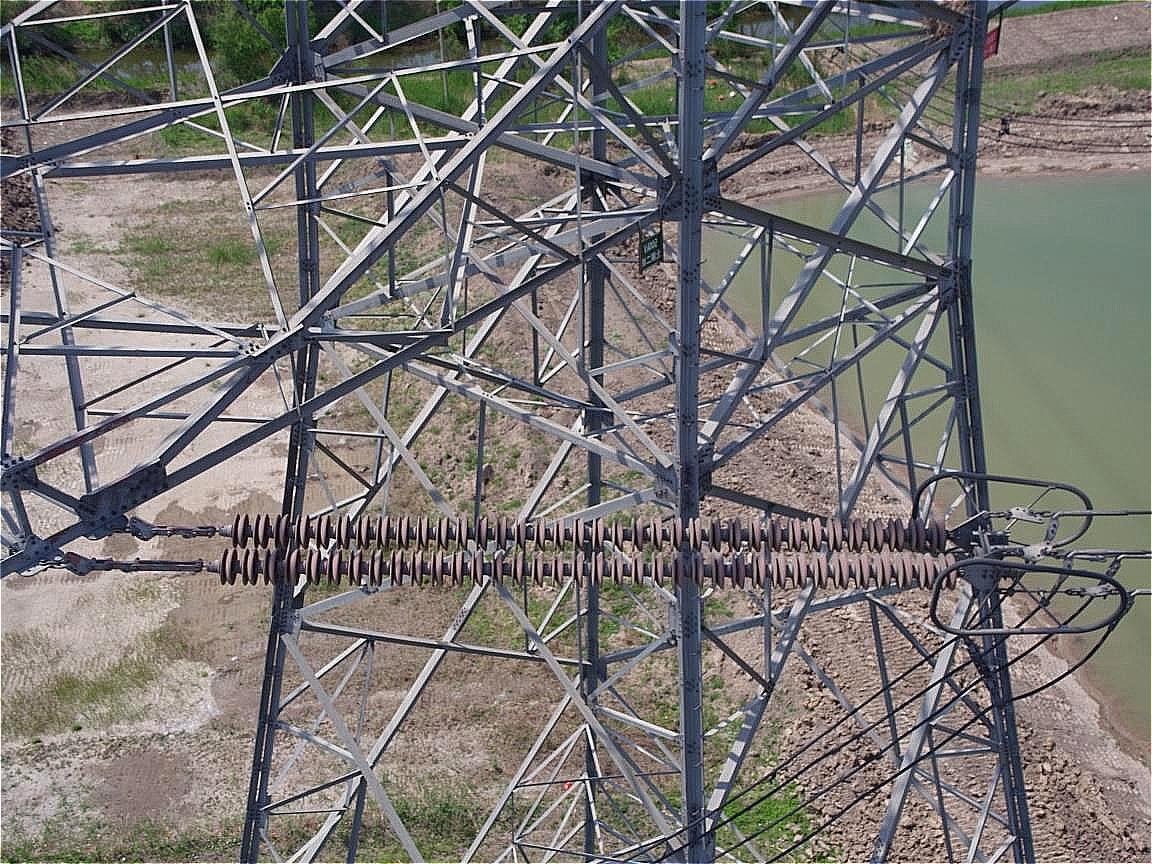insultor2: (214, 514, 963, 591)
